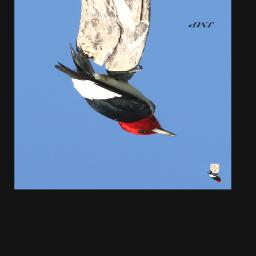Woodpecker: (50, 43, 181, 137)
